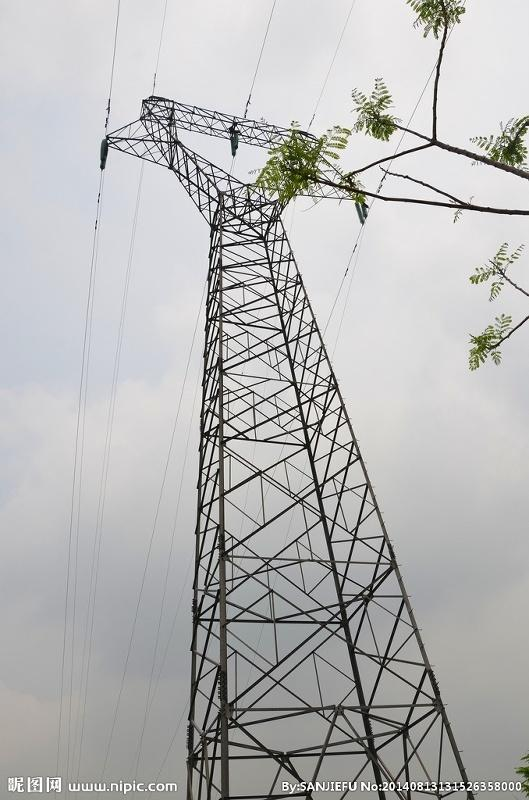power_tower: (80, 72, 496, 771)
